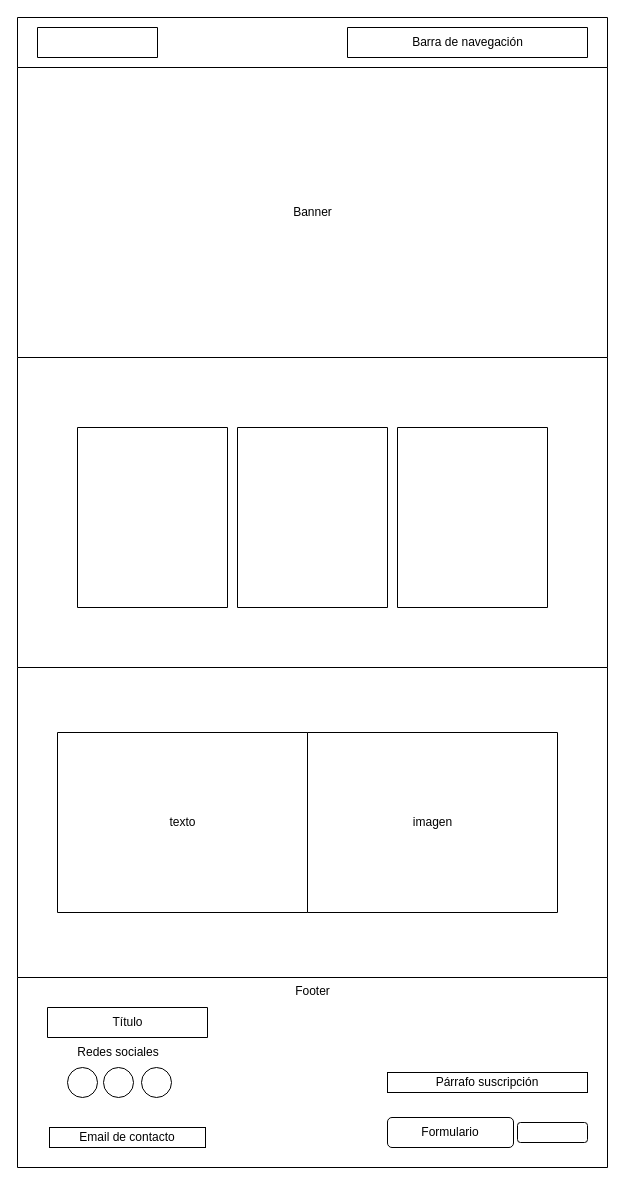
The diagram is 625 pixels wide and 1185 high, and some of its shapes have lost their labels. The box of each missing label's shape, as (x1, y1, x2, y2) in pixels:
Botón: (516, 1122, 588, 1142)
Logo: (36, 26, 158, 58)
Nosotros: (16, 666, 608, 978)
Productos: (16, 356, 608, 668)
